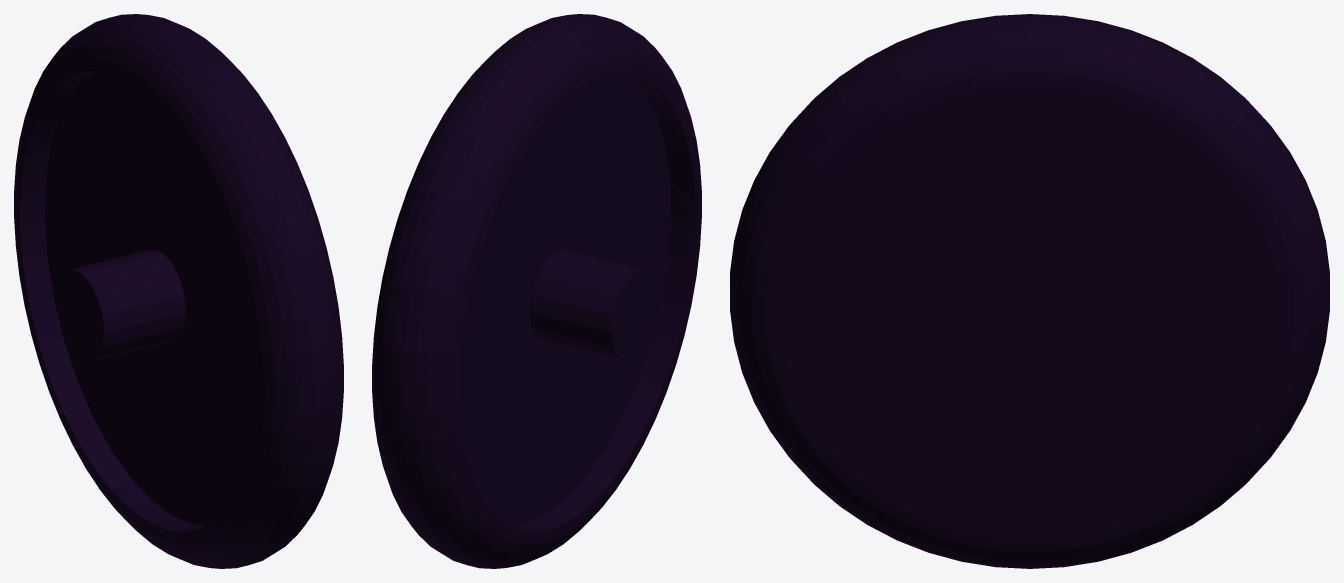
The model's file is caster.dae.
3 views of the same model, side by side, from view 1: azimuth 30°, elevation 25°; view 2: azimuth 150°, elevation 25°; view 3: azimuth 270°, elevation 25° (orthographic). The views are drawn at different scales.
Parts seen in each view (by area): view 1: caster_wheel2; view 2: caster_wheel2; view 3: caster_wheel2.
Boxes of the visible parts, <box> form: caster_wheel2: <box>14,14,343,568</box>; caster_wheel2: <box>372,14,701,568</box>; caster_wheel2: <box>730,14,1329,568</box>.
Size of the model in its own units: 17 by 59.8 by 59.9.
